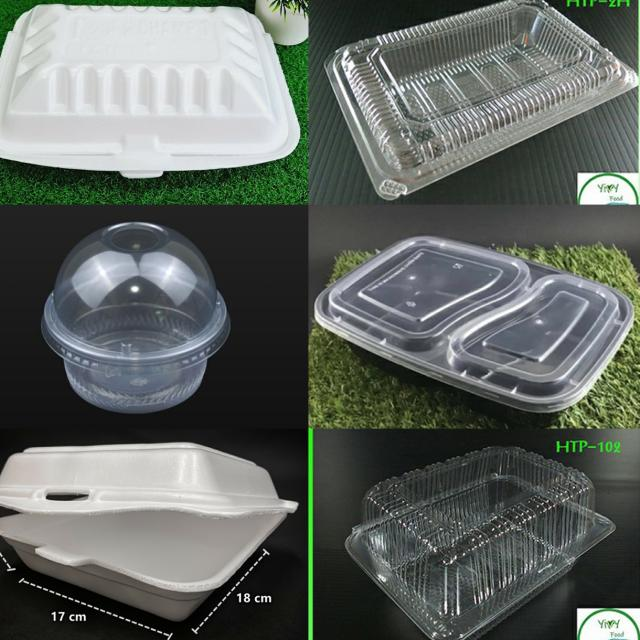plastik: (324, 0, 638, 200), (315, 237, 633, 412), (0, 443, 297, 621), (0, 4, 300, 178), (345, 447, 615, 640), (41, 222, 230, 414)
